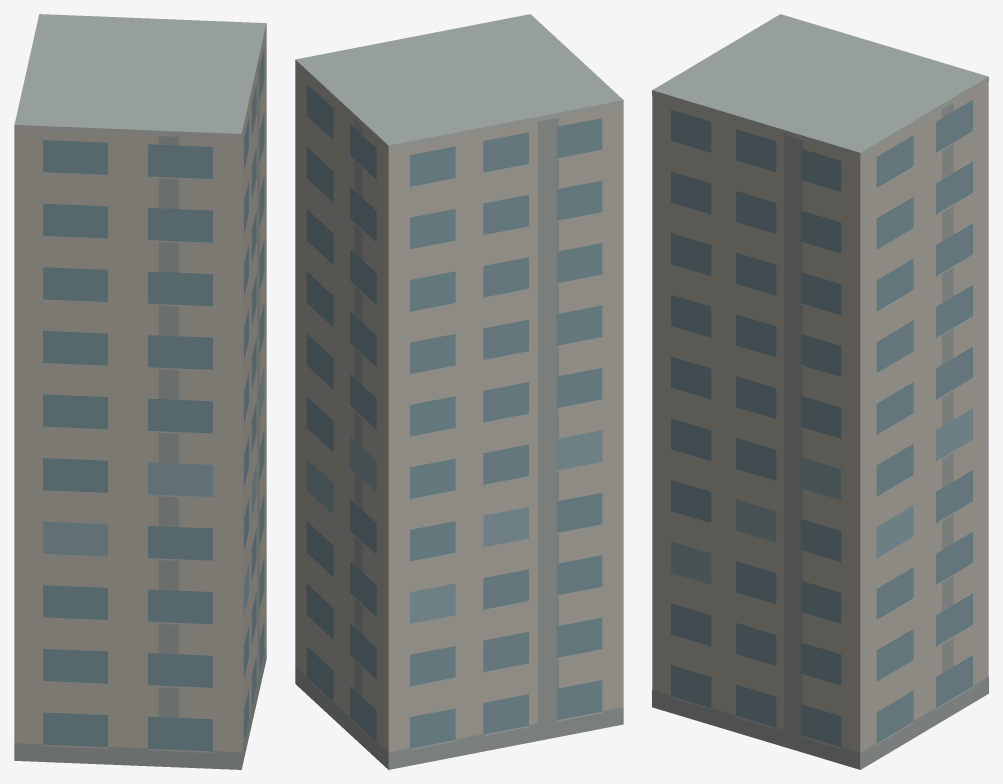
The model's file is residential-41ae469d-bf90-4197-8f54-65e80ee16b02.glb.
3 views of the same model, side by side, from view 1: azimuth 30°, elevation 25°; view 2: azimuth 150°, elevation 25°; view 3: azimuth 270°, elevation 25° (orthographic). The views are drawn at different scales.
Parts seen in each view (by area): view 1: residential-41ae469d-bf90-4197-8f54-65e80ee16b02.tmp; view 2: residential-41ae469d-bf90-4197-8f54-65e80ee16b02.tmp; view 3: residential-41ae469d-bf90-4197-8f54-65e80ee16b02.tmp.
Boxes of the visible parts, x1,y1,x2,y2 form: residential-41ae469d-bf90-4197-8f54-65e80ee16b02.tmp: (14,14,266,769); residential-41ae469d-bf90-4197-8f54-65e80ee16b02.tmp: (295,14,623,769); residential-41ae469d-bf90-4197-8f54-65e80ee16b02.tmp: (652,14,988,769).
Size of the model in its own units: 14 by 29 by 14.35.
